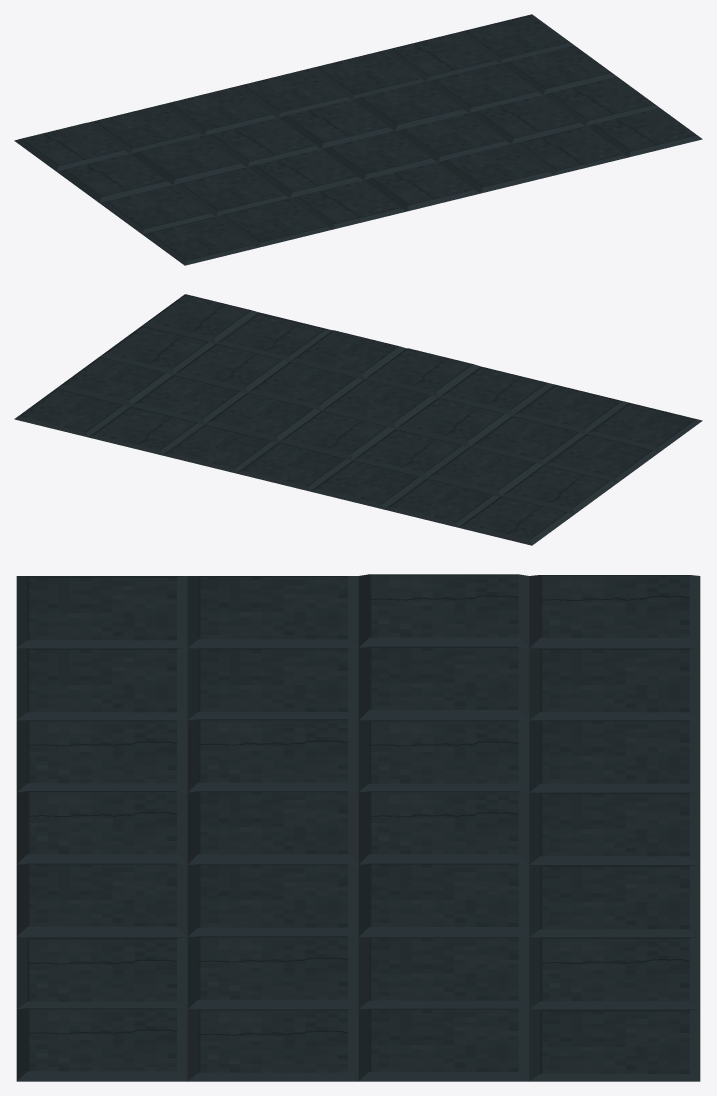
File: T1_FloorStrip_W7_B.fbx
The picture shows the model from 3 angles, top to bottom: view 1: azimuth 30°, elevation 25°; view 2: azimuth 150°, elevation 25°; view 3: azimuth 270°, elevation 25°; orthographic projection. The views are drawn at different scales.
Visible parts, largest first — view 1: T1_FloorStrip_W7_B; view 2: T1_FloorStrip_W7_B; view 3: T1_FloorStrip_W7_B.
Part boxes in pixels (x1,y1,x2,y2): T1_FloorStrip_W7_B: [14, 14, 702, 265]; T1_FloorStrip_W7_B: [14, 294, 702, 545]; T1_FloorStrip_W7_B: [16, 574, 700, 1081].
Bounding box in the file's own units: 7.88 × 0.045 × 4.5.
